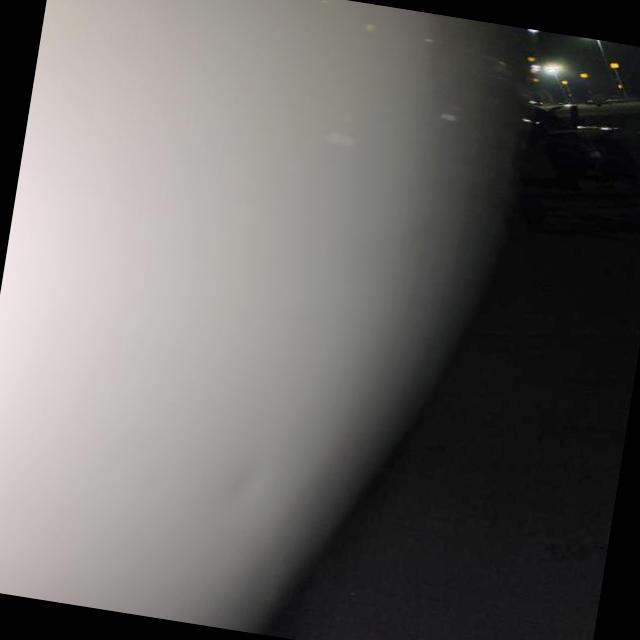dent: (172, 433, 318, 540)
